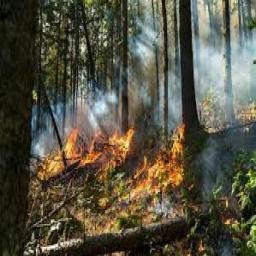Low smoke: (28, 82, 185, 140), (195, 14, 255, 119)
Small fire: (43, 128, 190, 207)
